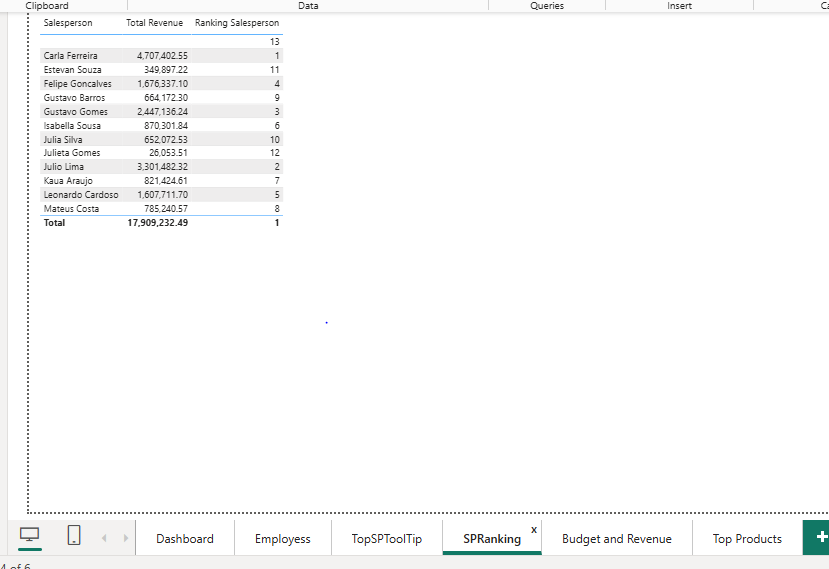

What the dashboard file says about the page in this screenshot:
{"tool":"powerbi","page":{"name":"SPRanking","canvas":[1280,720],"ordinal":3},"visuals":[{"type":"tableEx","fields":{"Values":["Dimension table.Salesperson","All Measures.Total Revenue","All Measures.Ranking Salesperson"]},"box":[10.1,0,381.2,327.5],"z":0}]}

Visuals, with their boxes on the page's 1280x720 design canvas (x1, y1, x2, y2). These are canvas units, not pixel positions in the 829x569 screenshot, which may show the page scaled, cropped or inside an application window:
tableEx - Dimension table.Salesperson x All Measures.Total Revenue: bbox(10, 0, 391, 328)
